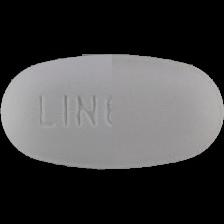0904-6553: (0, 0, 224, 224)
